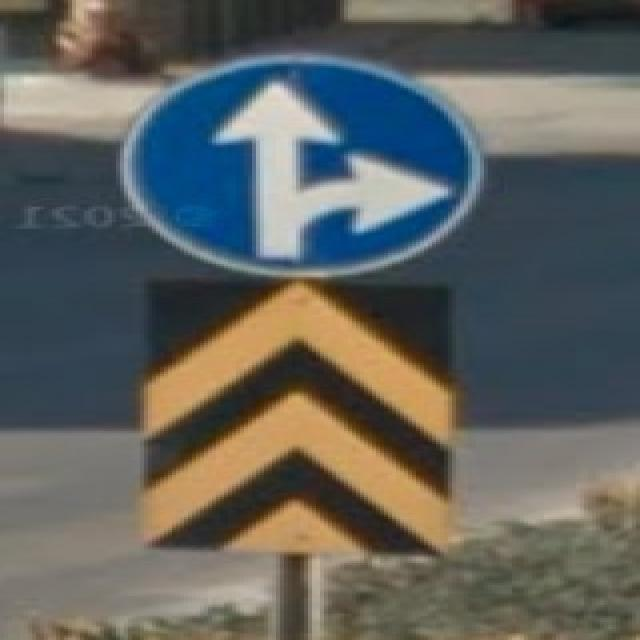Straight or Right: (133, 63, 473, 267)
